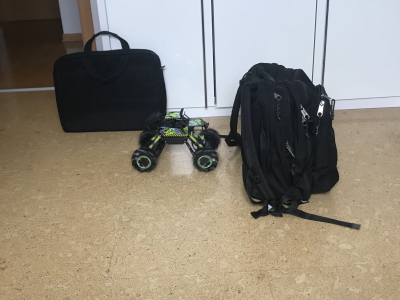remote control car: (129, 106, 223, 176)
